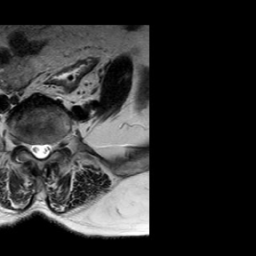CCS_stenosis: (37, 135, 44, 165)
LFS_normal: (52, 134, 60, 157)
LLS_normal: (44, 135, 52, 161)
RFS_stenosis: (21, 131, 29, 156)
RLS_normal: (29, 135, 37, 161)
